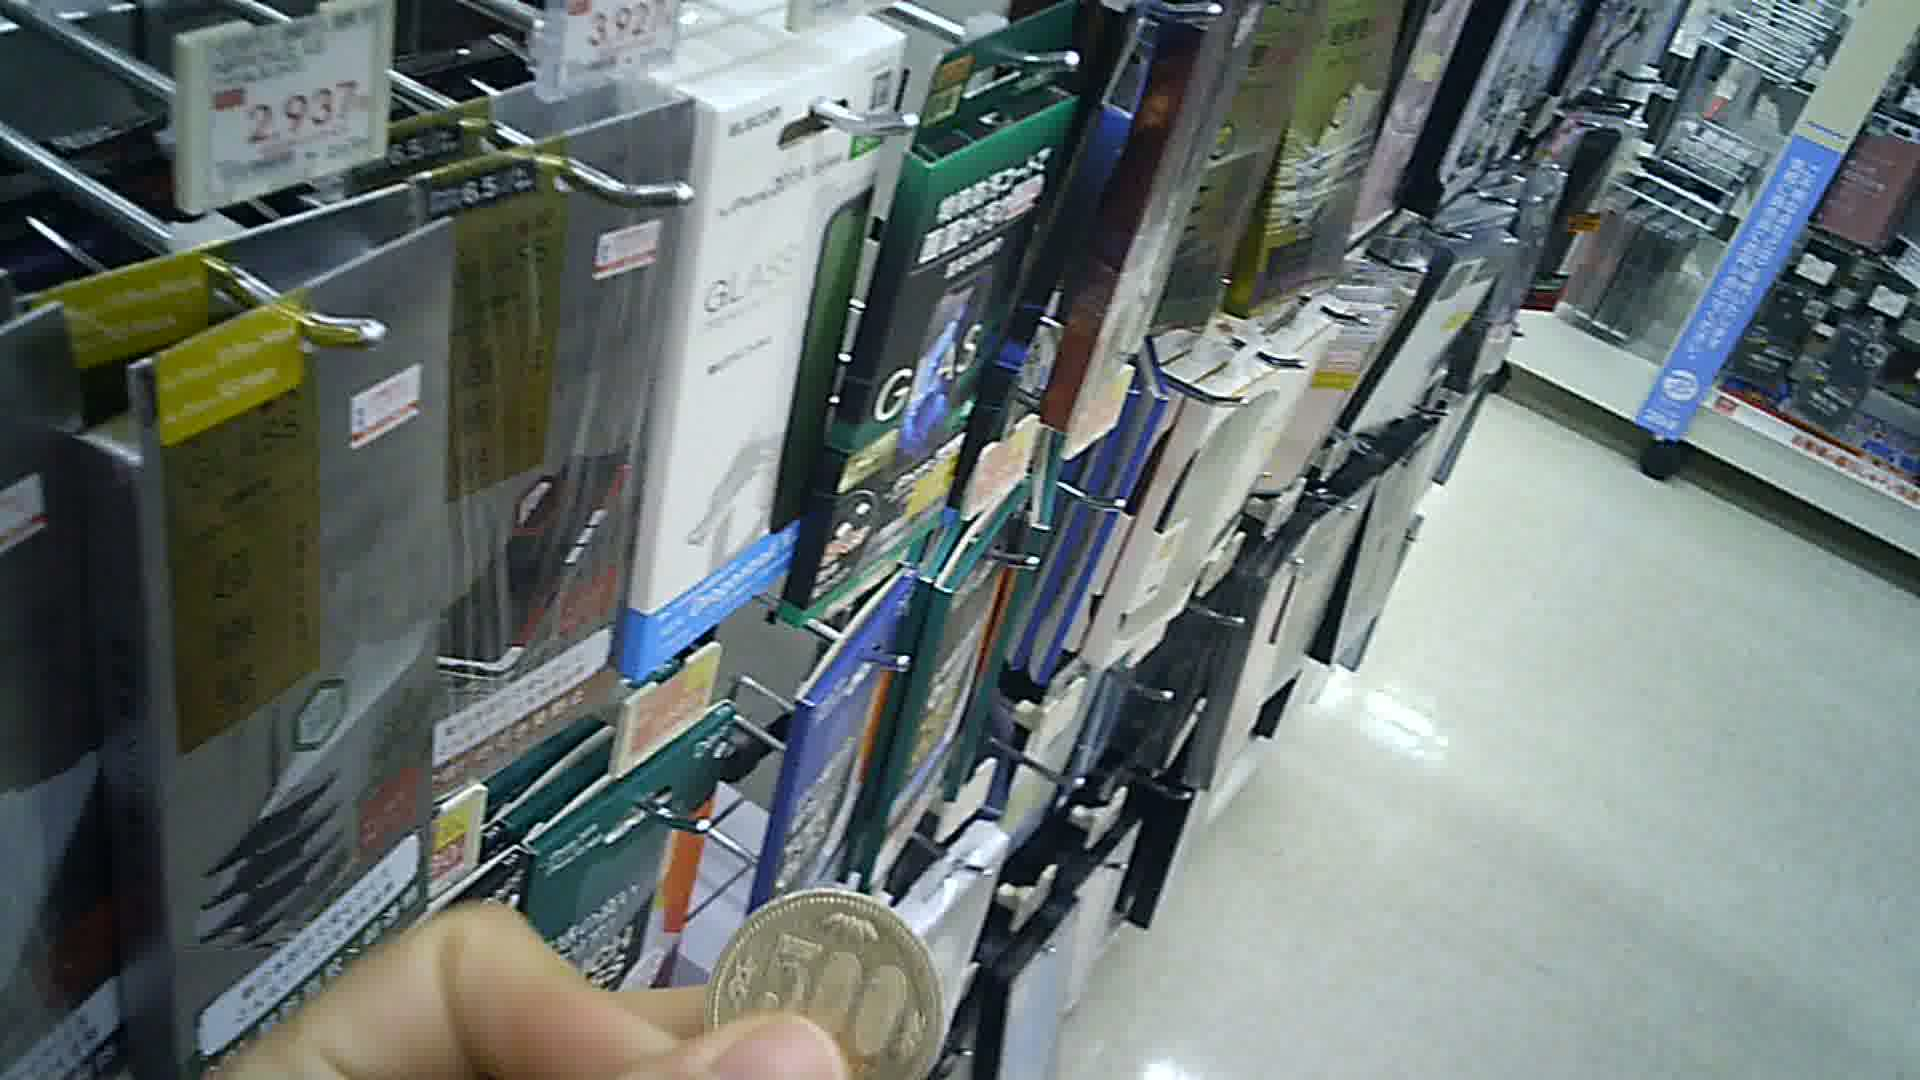500 Yen: (702, 887, 956, 1079)
